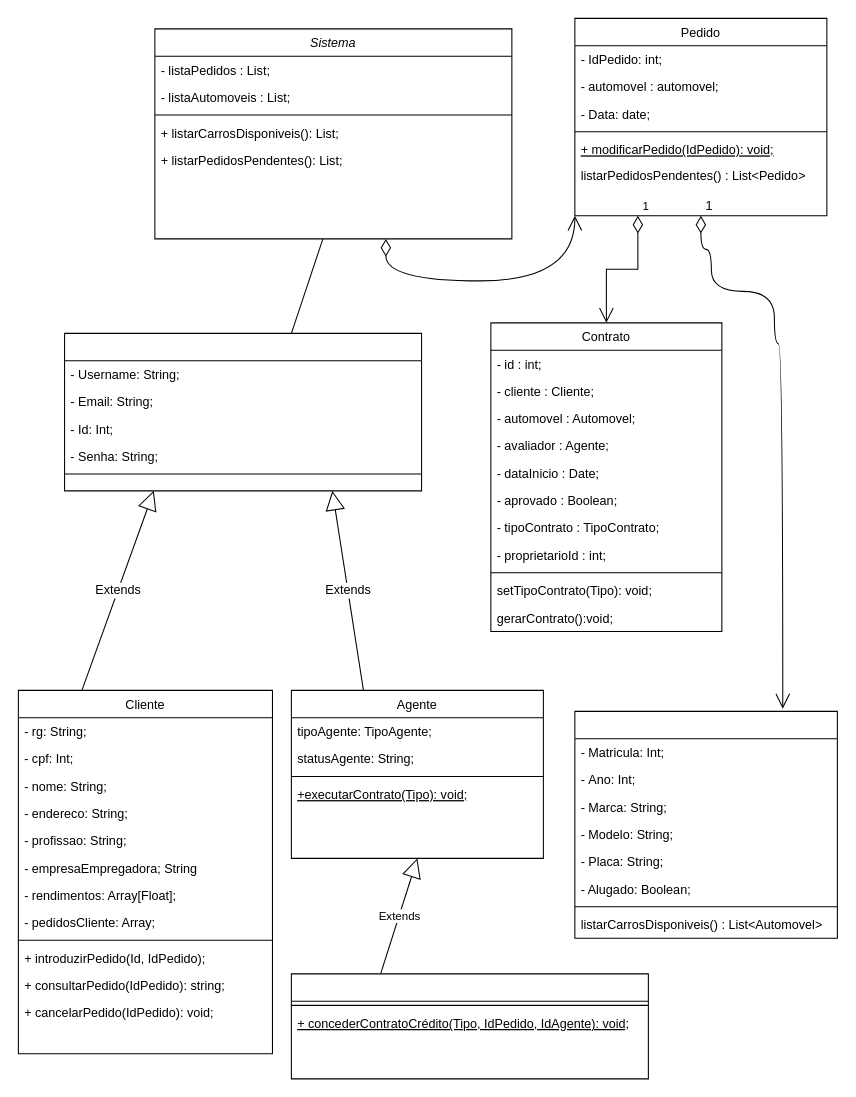
Image size: 856x1097. Some labels were removed from this diagram. Each missing label, with the box of its shape:
Automovel: (574, 710, 837, 938)
Banco: (290, 973, 648, 1079)
Usuário: (64, 332, 422, 491)
